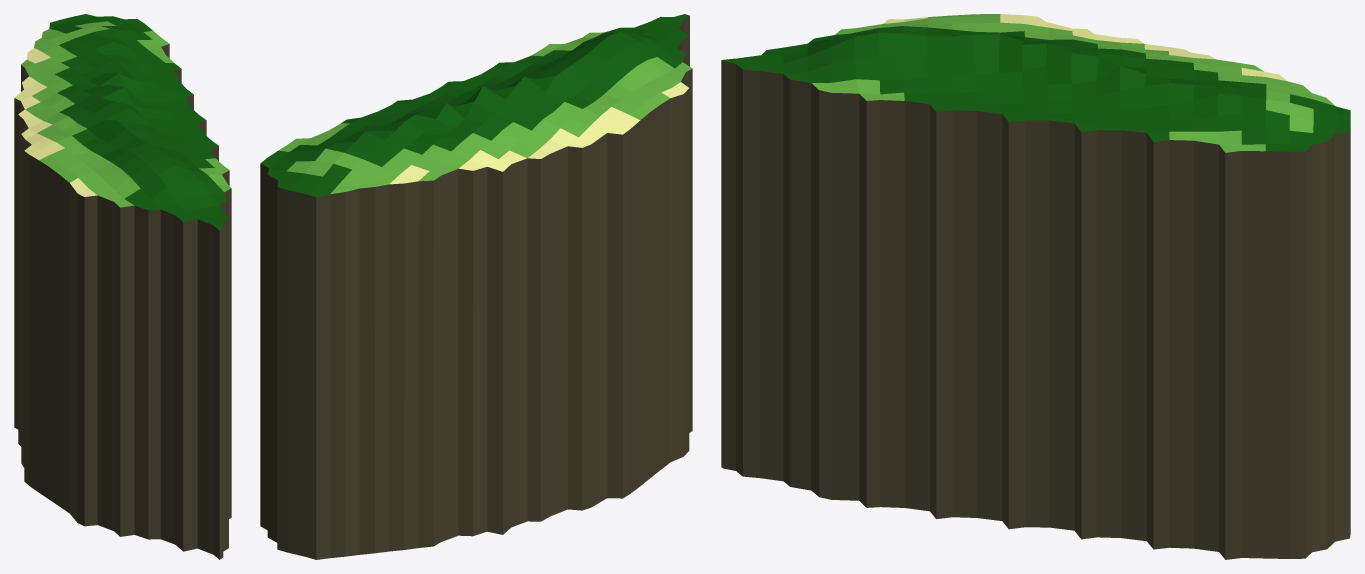
The model's file is world_map_taiwan.fbx.
3 renders of one model, left to right at view 1: azimuth 30°, elevation 25°; view 2: azimuth 150°, elevation 25°; view 3: azimuth 270°, elevation 25°, orthographic. The views are drawn at different scales.
Visible parts, largest first — view 1: taiwan; view 2: taiwan; view 3: taiwan.
Boxes of the visible parts, left/top/right/bottom form: taiwan: left=14, top=14, right=231, bottom=559; taiwan: left=260, top=14, right=692, bottom=559; taiwan: left=721, top=14, right=1350, bottom=559.
Size of the model in its own units: 21.03 by 32.32 by 41.64.
